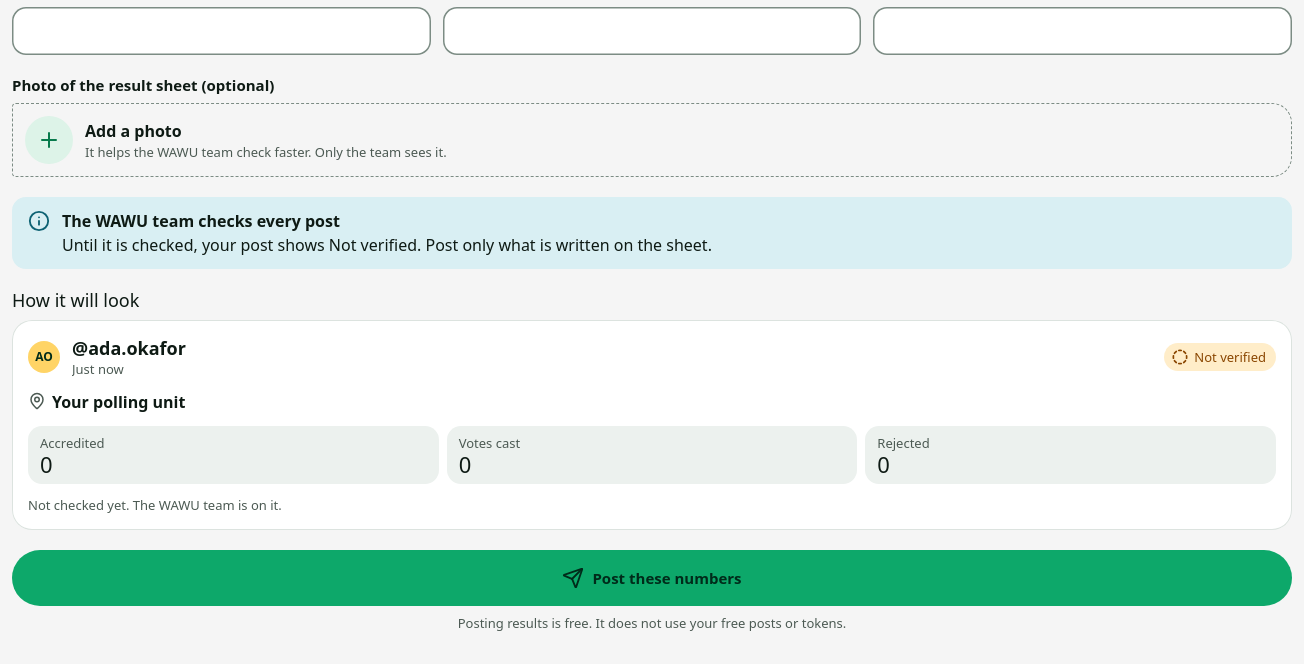
Test: PostResultPage › shows a message under each empty field and posts nothing
(page scrolled)
Click the button "Post these numbers" at {"x": 652, "y": 578}, box x1=12 y1=550 x2=1292 y2=606
(page scrolled)
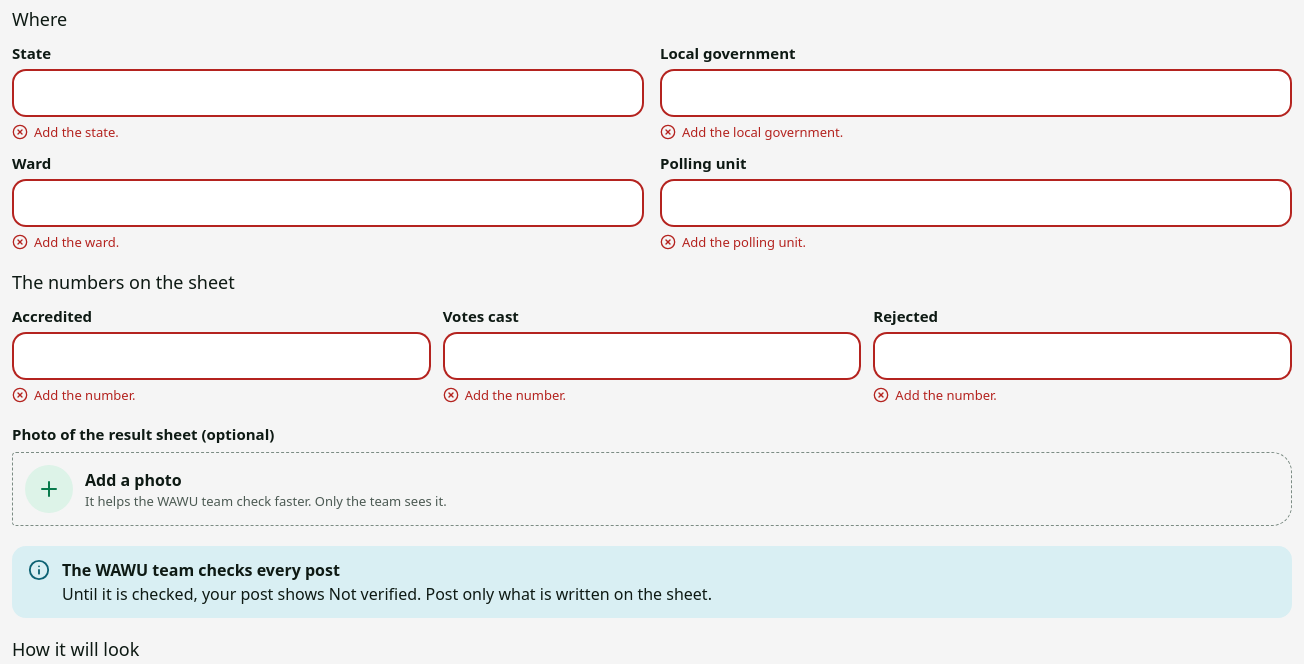
Expected: the text "Add the state." is shown, x1=12 y1=123 x2=119 y2=141
Expected: the text "Add the number." is shown 3 times, x1=12 y1=386 x2=136 y2=404; x1=443 y1=386 x2=566 y2=404; x1=873 y1=386 x2=997 y2=404
